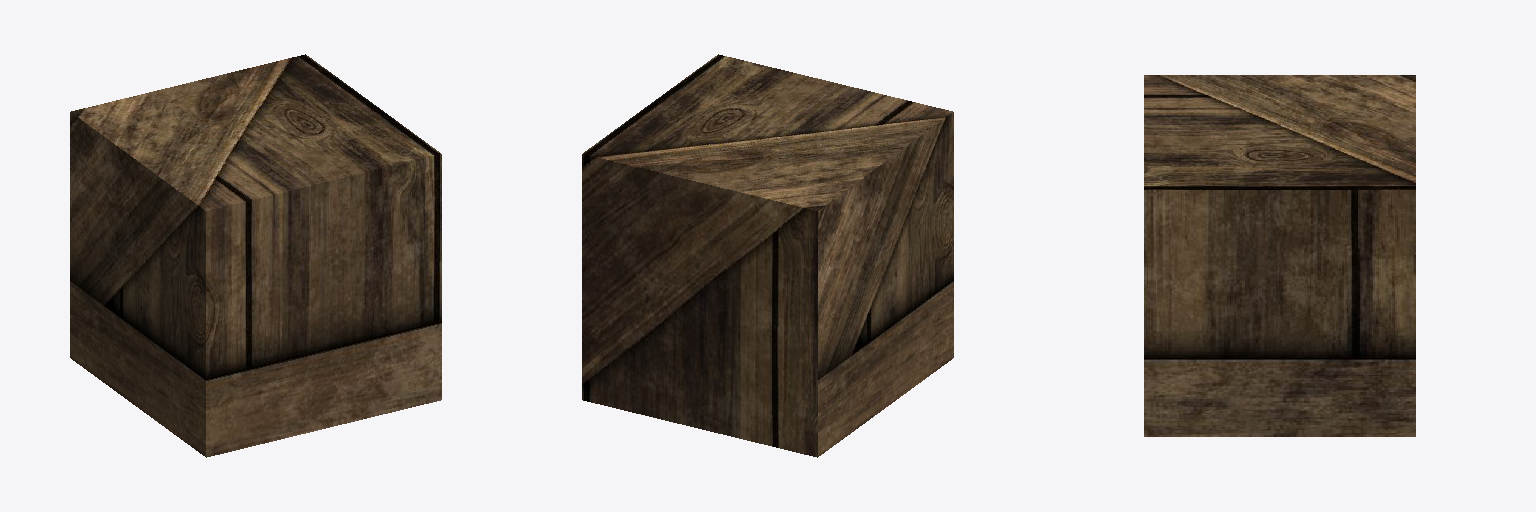
3 views of the same model, side by side, from view 1: azimuth 30°, elevation 25°; view 2: azimuth 150°, elevation 25°; view 3: azimuth 270°, elevation 25° (orthographic).
Parts seen in each view (by area): view 1: pCube1 group1; view 2: pCube1 group1; view 3: pCube1 group1.
Boxes of the visible parts, x1=… form: pCube1 group1: x1=70, y1=54, x2=441, y2=457; pCube1 group1: x1=582, y1=54, x2=953, y2=457; pCube1 group1: x1=1144, y1=75, x2=1415, y2=436.
Bounding box in the file's own units: 1 × 1 × 1.
1 materials, 1 textured.